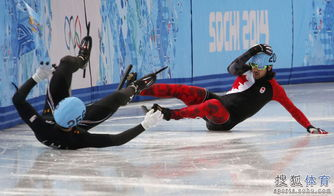fall: (3, 29, 164, 151)
